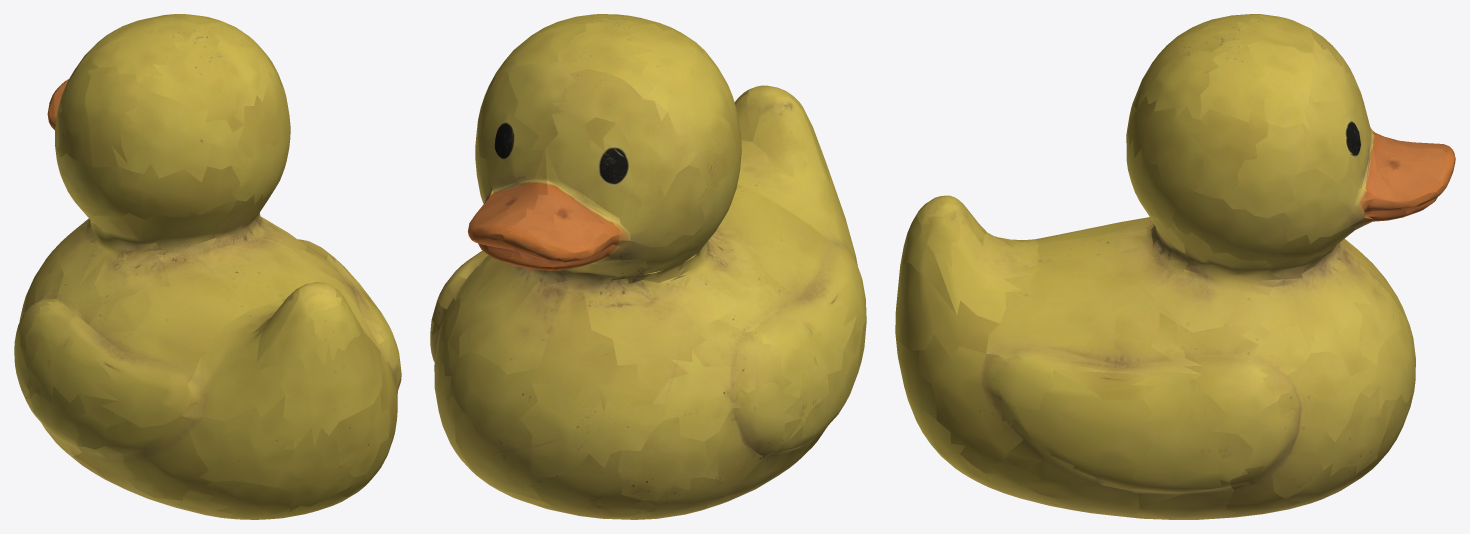
File: paperella.glb
3 views of the same model, side by side, from view 1: azimuth 30°, elevation 25°; view 2: azimuth 150°, elevation 25°; view 3: azimuth 270°, elevation 25° (orthographic). The views are drawn at different scales.
Visible parts, largest first — view 1: paperella; view 2: paperella; view 3: paperella.
Boxes of the visible parts, box(x1,y1,x2,y2) form: paperella: box(14, 14, 401, 519); paperella: box(430, 14, 866, 519); paperella: box(895, 14, 1455, 519).
Size of the model in its own units: 0.3223 by 0.387 by 0.45.
1 material, 1 textured.
